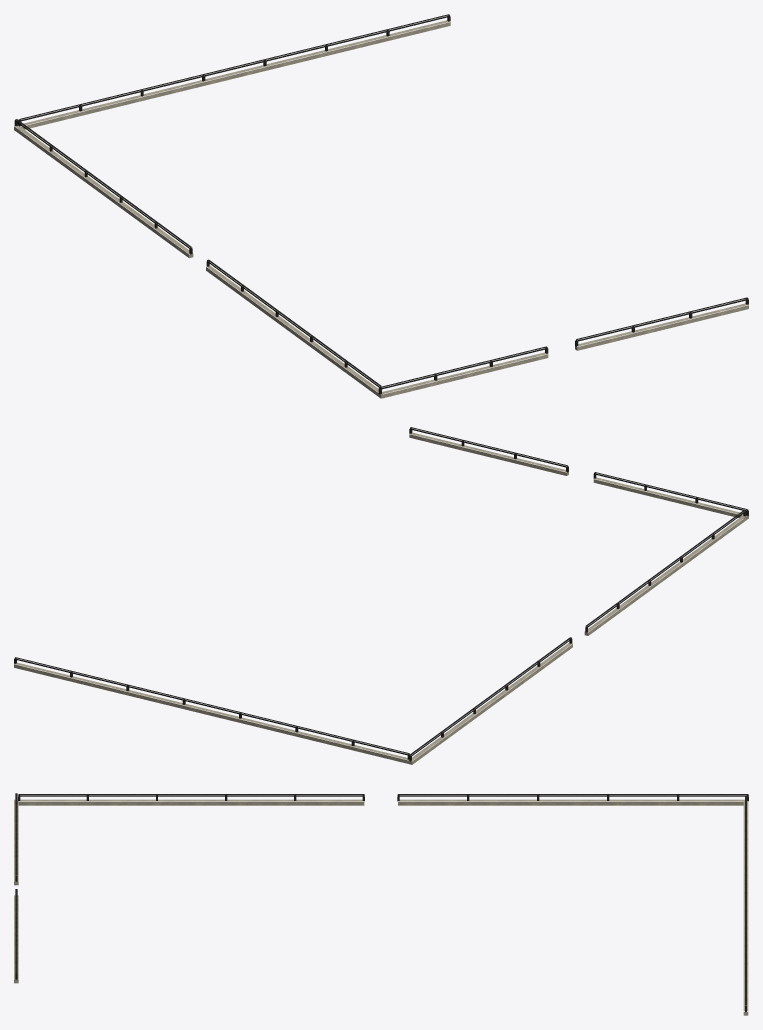
The model's file is water_tower_grounds_1871__grounds_1867_1871.glb.
3 renders of one model, top to bottom at view 1: azimuth 30°, elevation 25°; view 2: azimuth 150°, elevation 25°; view 3: azimuth 270°, elevation 25°, orthographic. The views are drawn at different scales.
Visible parts, largest first — view 1: water_tower_grounds_1871__grounds_1867_1871; view 2: water_tower_grounds_1871__grounds_1867_1871; view 3: water_tower_grounds_1871__grounds_1867_1871.
Part boxes in pixels (bbox=[...]): water_tower_grounds_1871__grounds_1867_1871: bbox=[14, 14, 748, 398]; water_tower_grounds_1871__grounds_1867_1871: bbox=[14, 427, 748, 764]; water_tower_grounds_1871__grounds_1867_1871: bbox=[14, 793, 748, 1015].
Size of the model in its own units: 47.92 by 1.09 by 70.06.
Materials: 2 (2 with a texture image).
